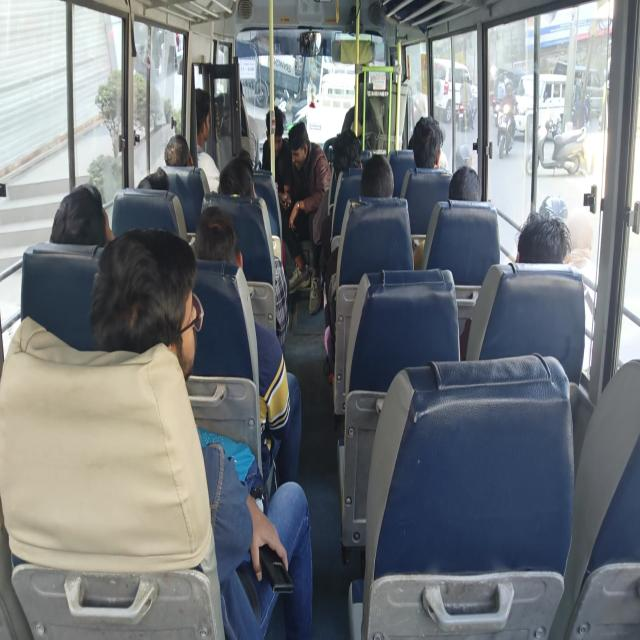person: (90, 227, 216, 367), (507, 187, 572, 291), (46, 164, 103, 252), (193, 204, 241, 288), (213, 165, 270, 213), (129, 165, 171, 222), (290, 124, 324, 184), (409, 110, 447, 162), (369, 159, 402, 216), (452, 154, 480, 220), (226, 62, 254, 128), (346, 66, 374, 124), (145, 134, 195, 166), (258, 94, 282, 154), (182, 71, 208, 126), (326, 130, 356, 164)
